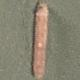ship: (0, 0, 16, 40)
